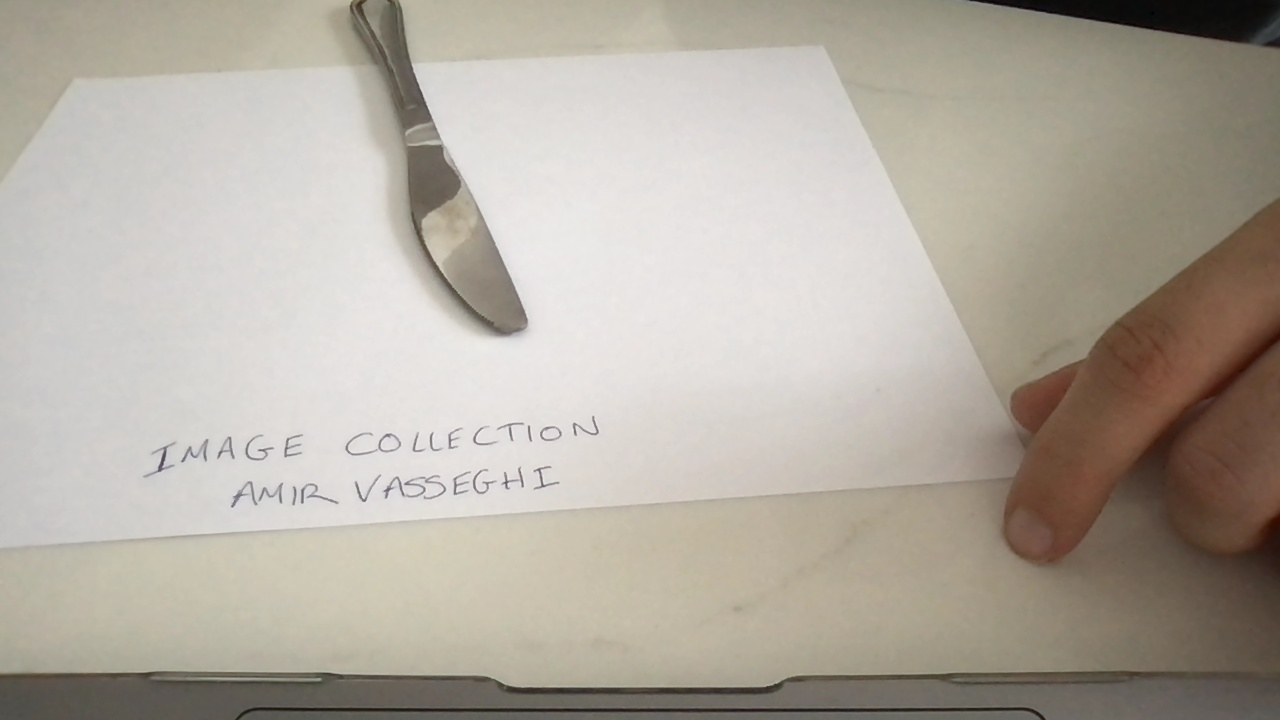knife: (347, 1, 533, 338)
